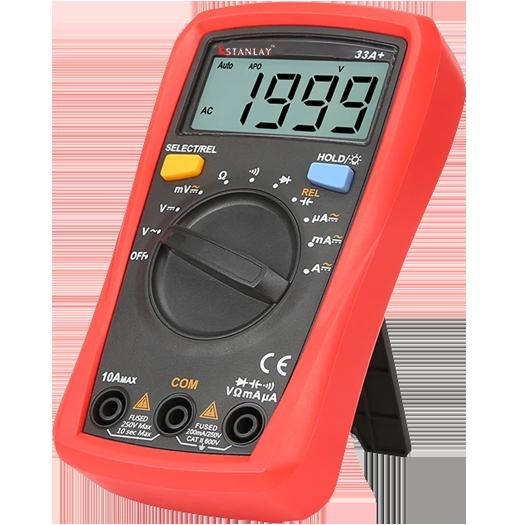multimeter: (52, 2, 472, 525)
